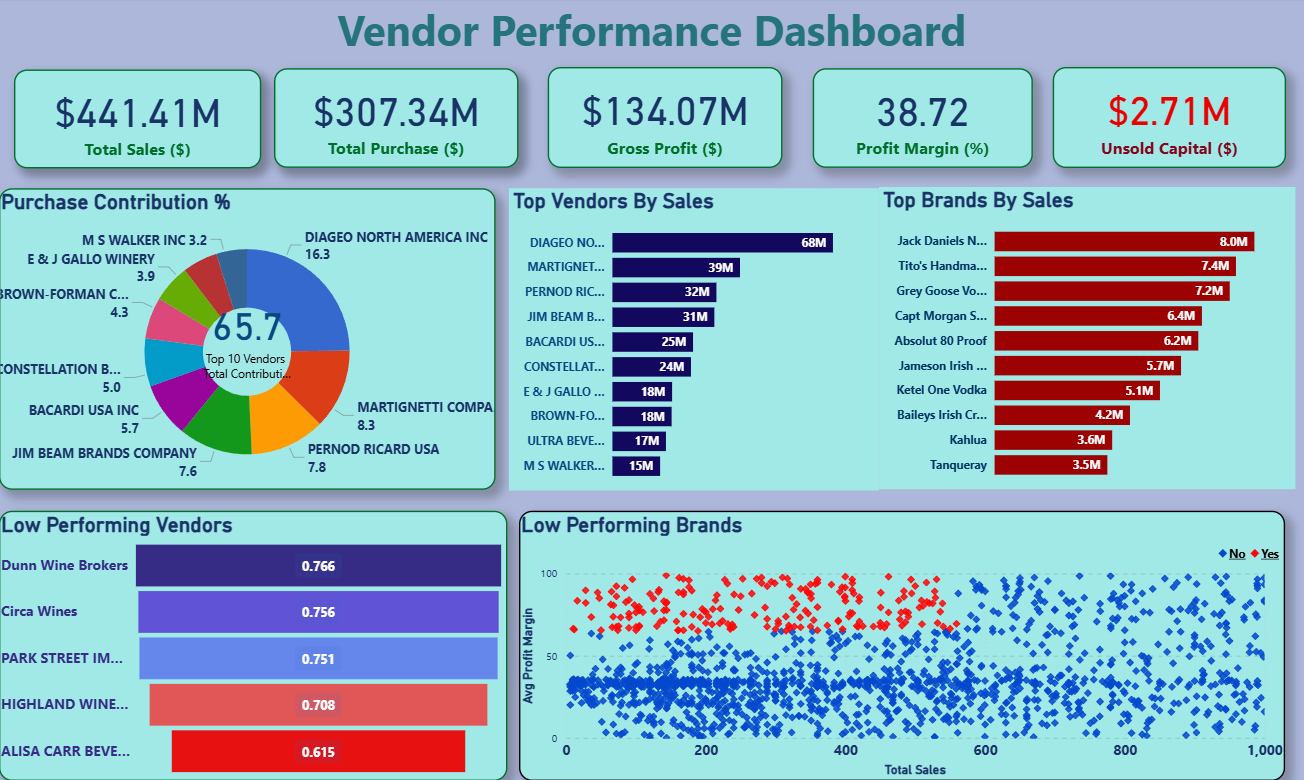

The page's visual inventory and layout, read from the dashboard file:
{"tool":"powerbi","page":{"name":"Page 1","canvas":[1500,900],"ordinal":0},"visuals":[{"type":"card","fields":{"Values":["vendor_sales_summary.TotalPurchaseDollars"]},"box":[315.8,82.4,280.9,114.6],"z":0},{"type":"card","fields":{"Values":["vendor_sales_summary.TotalSalesDollars"]},"box":[17.2,83.3,284.3,113.4],"z":1000},{"type":"card","fields":{"Values":["vendor_sales_summary.GrossProfit"]},"box":[630.2,81,269.7,116],"z":2000},{"type":"card","fields":{"Values":["vendor_sales_summary.ProfitMargin"]},"box":[934.8,82.4,252.9,114.6],"z":3000},{"type":"card","fields":{"Values":["vendor_sales_summary.UnsoldCapital"]},"box":[1210.1,81,268.3,116],"z":4000},{"type":"textbox","box":[0,0,1500,83],"z":5000},{"type":"donutChart","title":"Purchase Contribution % ","fields":{"Category":["PurchaseContribution.VendorName"],"Y":["PurchaseContribution.PurchaseContribution%"]},"box":[0,220,570,346.7],"z":6000},{"type":"card","fields":{"Values":["PurchaseContribution.PurchaseContribution%"]},"box":[228.3,305.8,113.4,155.1],"z":7000},{"type":"barChart","title":"Top Vendors By Sales","fields":{"Category":["vendor_sales_summary.VendorName"],"Y":["vendor_sales_summary.TotalSalesDollars"]},"box":[585.8,219.7,425,347.5],"z":8000},{"type":"barChart","title":"Top Brands By Sales","fields":{"Category":["vendor_sales_summary.Description"],"Y":["vendor_sales_summary.TotalSalesDollars"]},"box":[1010.9,218.3,478.1,347.5],"z":9000},{"type":"funnel","title":"Low Performing Vendors","fields":{"Category":["LowTurnoverVendor.VendorName"],"Y":["LowTurnoverVendor.AvgStockTurnOver"]},"box":[0,590.1,584.4,310.1],"z":10000},{"type":"scatterChart","title":"Low Performing Brands","fields":{"X":["BrandPerformance.TotalSales"],"Y":["BrandPerformance.AvgProfitMargin"],"Series":["BrandPerformance.TargetBrand"],"Category":["BrandPerformance.Description"]},"box":[596.7,590,880,310],"z":11000}]}

Visuals, with their boxes in screenshot pixels (x1, y1, x2, y2), scaled from the page's 1500x900 canvas onto the 1304x780 screenshot:
card - vendor_sales_summary.TotalPurchaseDollars: <box>275,71,519,171</box>
card - vendor_sales_summary.TotalSalesDollars: <box>15,72,262,170</box>
card - vendor_sales_summary.GrossProfit: <box>548,70,782,171</box>
card - vendor_sales_summary.ProfitMargin: <box>813,71,1033,171</box>
card - vendor_sales_summary.UnsoldCapital: <box>1052,70,1285,171</box>
textbox: <box>0,0,1303,72</box>
"Purchase Contribution % " donutChart: <box>0,191,496,491</box>
card - PurchaseContribution.PurchaseContribution%: <box>198,265,297,399</box>
"Top Vendors By Sales" barChart: <box>509,190,879,492</box>
"Top Brands By Sales" barChart: <box>879,189,1294,490</box>
"Low Performing Vendors" funnel: <box>0,511,508,779</box>
"Low Performing Brands" scatterChart: <box>519,511,1284,779</box>
